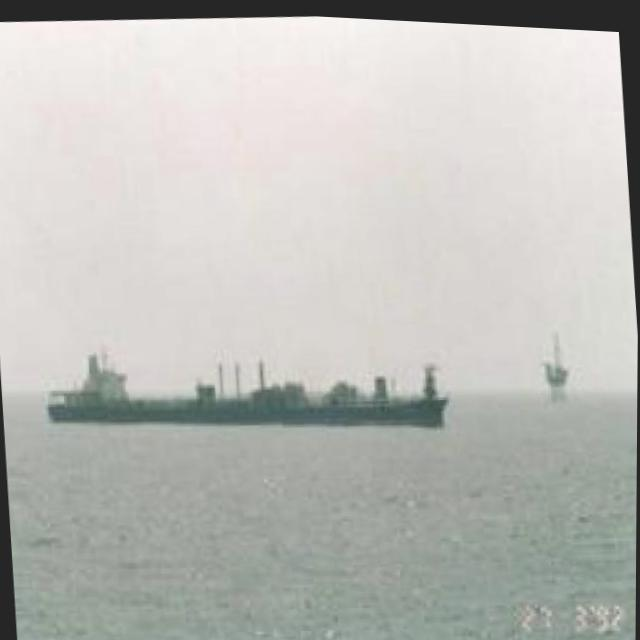ship2: (44, 349, 456, 425)
